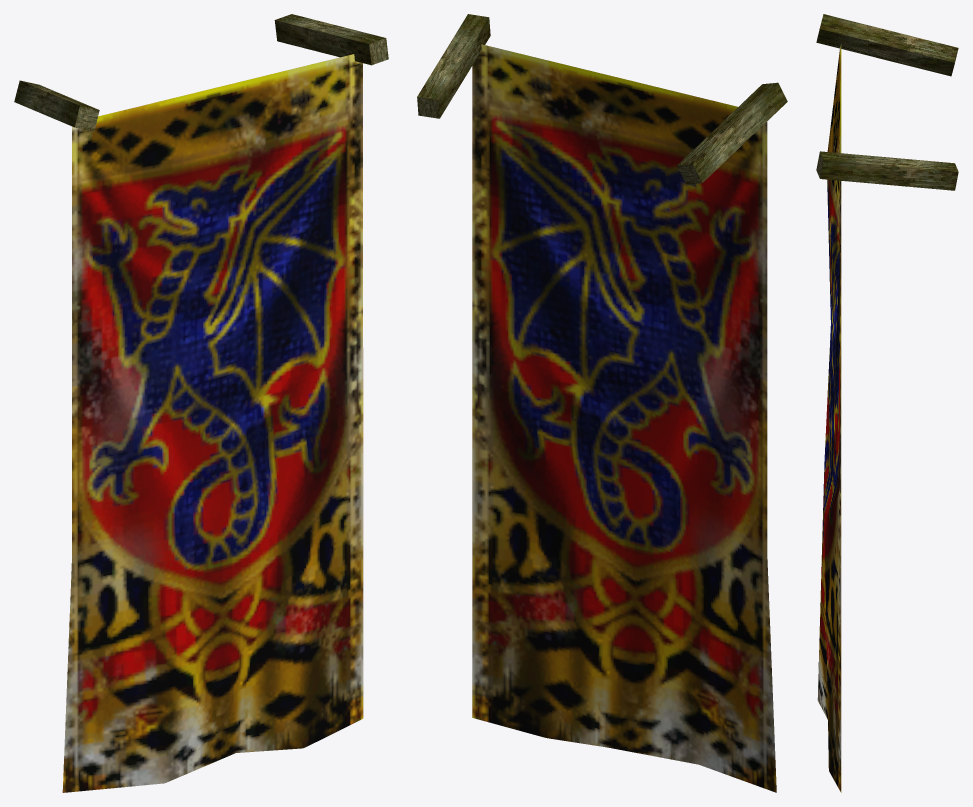
The picture shows the model from 3 angles, left to right: view 1: azimuth 30°, elevation 25°; view 2: azimuth 150°, elevation 25°; view 3: azimuth 270°, elevation 25°; orthographic projection. The views are drawn at different scales.
Visible parts, largest first — view 1: tn2_f10-col; view 2: tn2_f10-col; view 3: tn2_f10-col.
Boxes of the visible parts, <box> form: tn2_f10-col: <box>14,14,388,792</box>; tn2_f10-col: <box>417,14,787,792</box>; tn2_f10-col: <box>816,14,958,792</box>.
Bounding box in the file's own units: 2.13 × 4.53 × 0.8949.
Materials: 2 (2 with a texture image).
